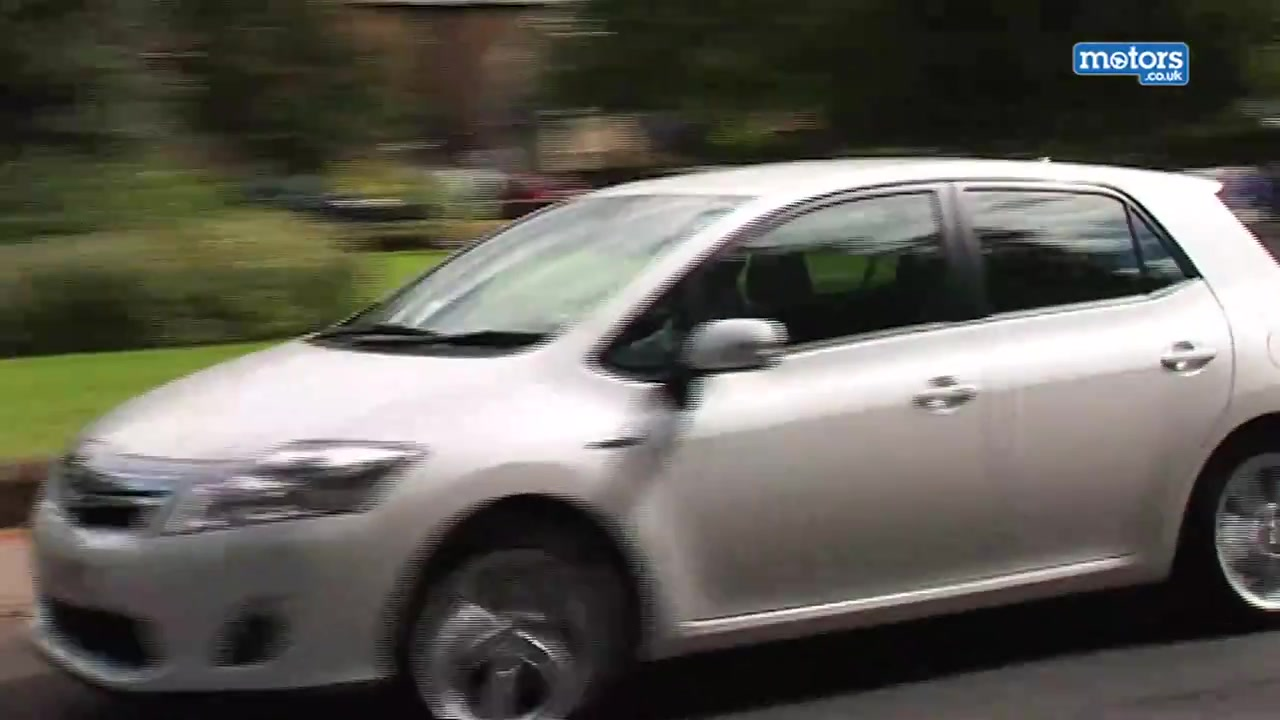car: (33, 151, 1280, 720)
